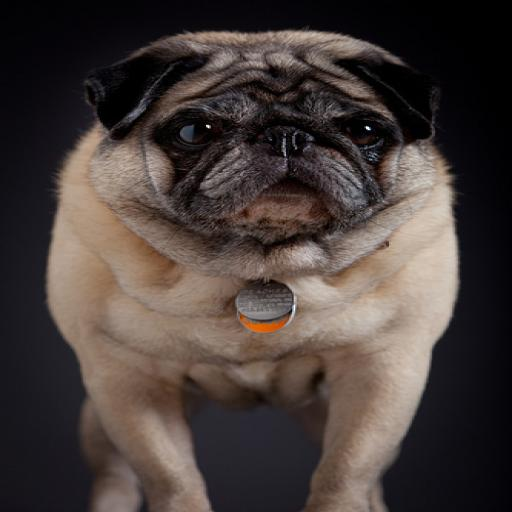dog_face: (84, 27, 444, 256)
